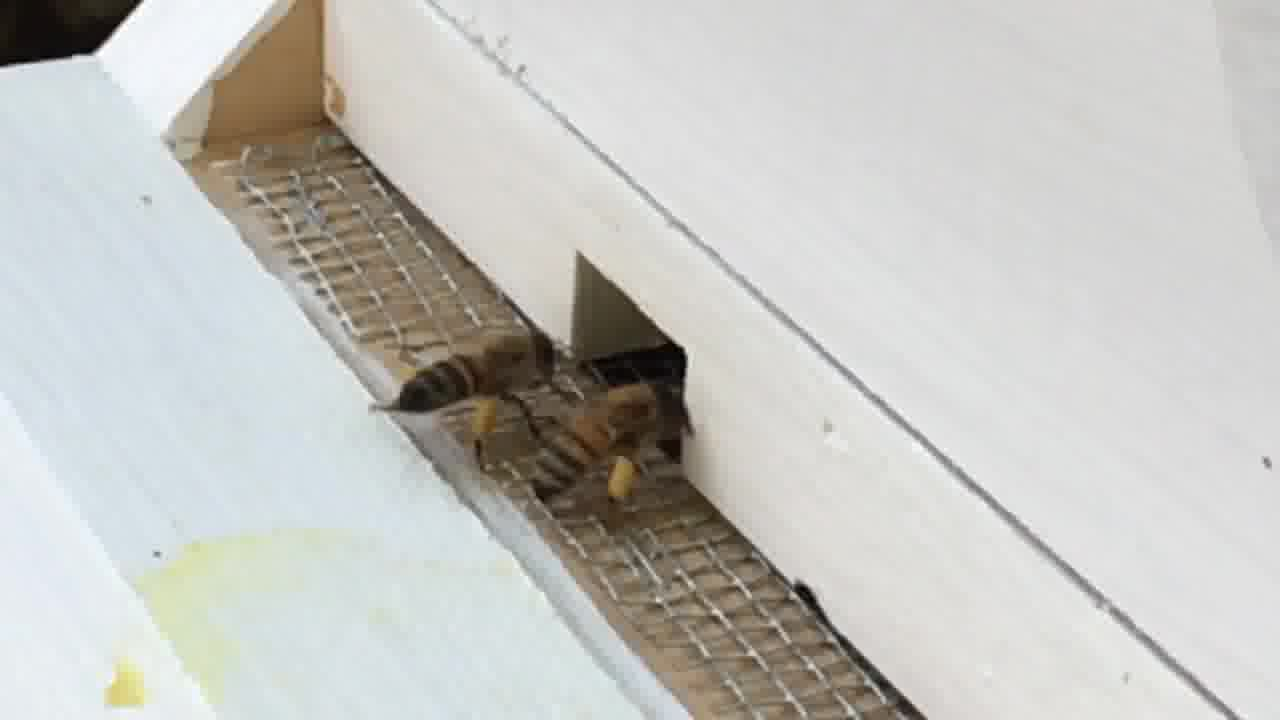pollen: (380, 340, 557, 464), (541, 381, 692, 510)
